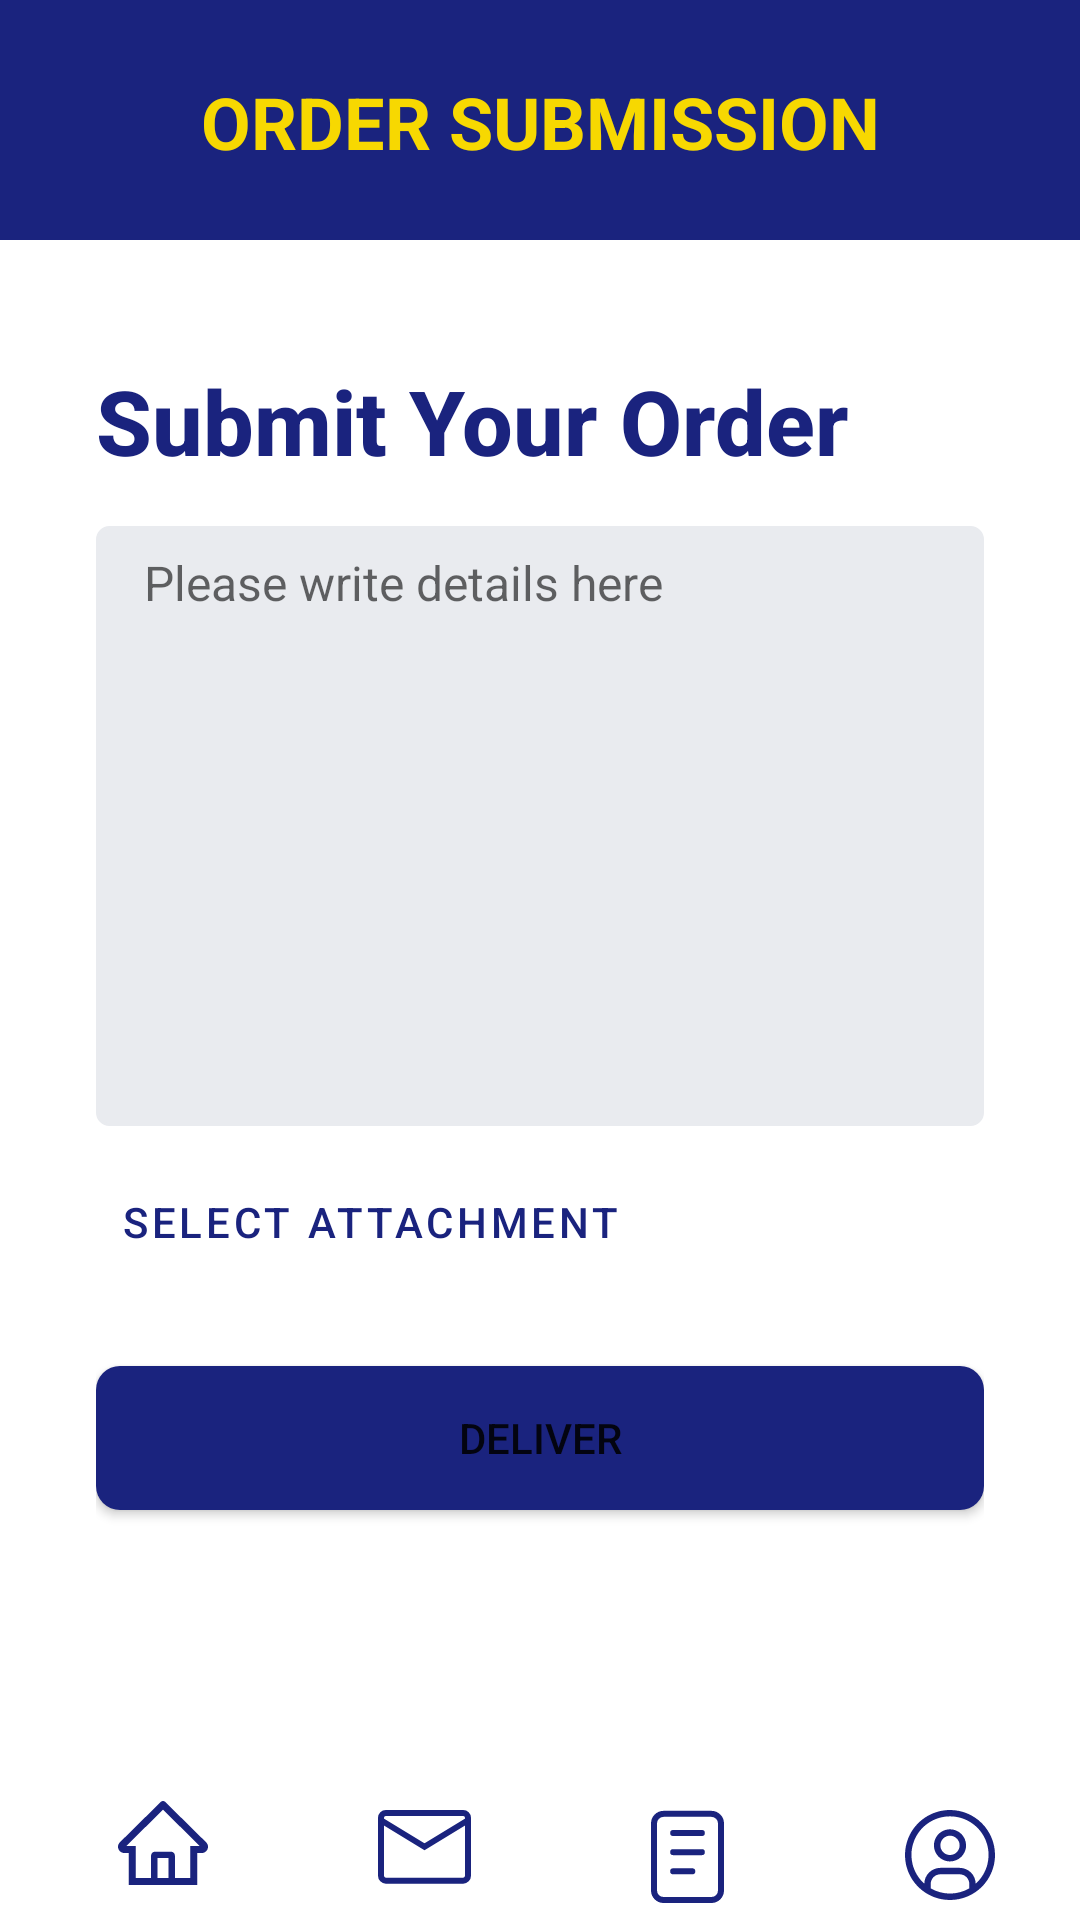

Screen size 1080*1920. Icon name, then its box in pixels as (x1, y1, x2, y2):
home: (118, 1801, 208, 1885)
message: (378, 1810, 471, 1884)
order: (651, 1810, 724, 1903)
profile: (905, 1810, 995, 1900)
